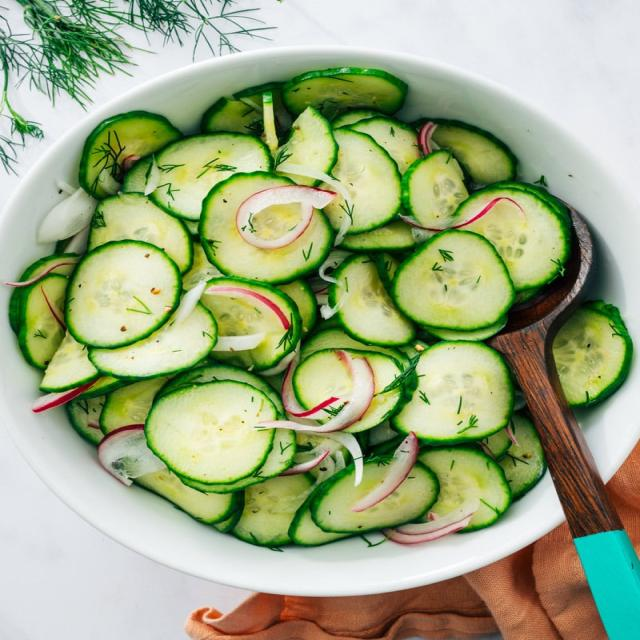Pickle: (144, 380, 278, 484), (122, 132, 272, 220), (391, 341, 514, 444), (89, 281, 217, 379), (66, 240, 181, 348), (392, 230, 514, 331), (453, 188, 570, 289), (309, 456, 439, 533), (200, 276, 302, 371), (80, 111, 183, 199), (294, 349, 403, 432), (88, 192, 194, 273), (553, 301, 633, 406), (419, 444, 511, 532), (328, 254, 416, 346), (325, 128, 402, 233), (283, 68, 408, 119), (134, 469, 242, 524), (233, 474, 314, 546), (275, 106, 339, 186), (402, 150, 469, 225), (17, 274, 69, 369), (345, 116, 422, 173), (497, 412, 545, 499), (100, 376, 169, 434), (202, 98, 262, 136)
